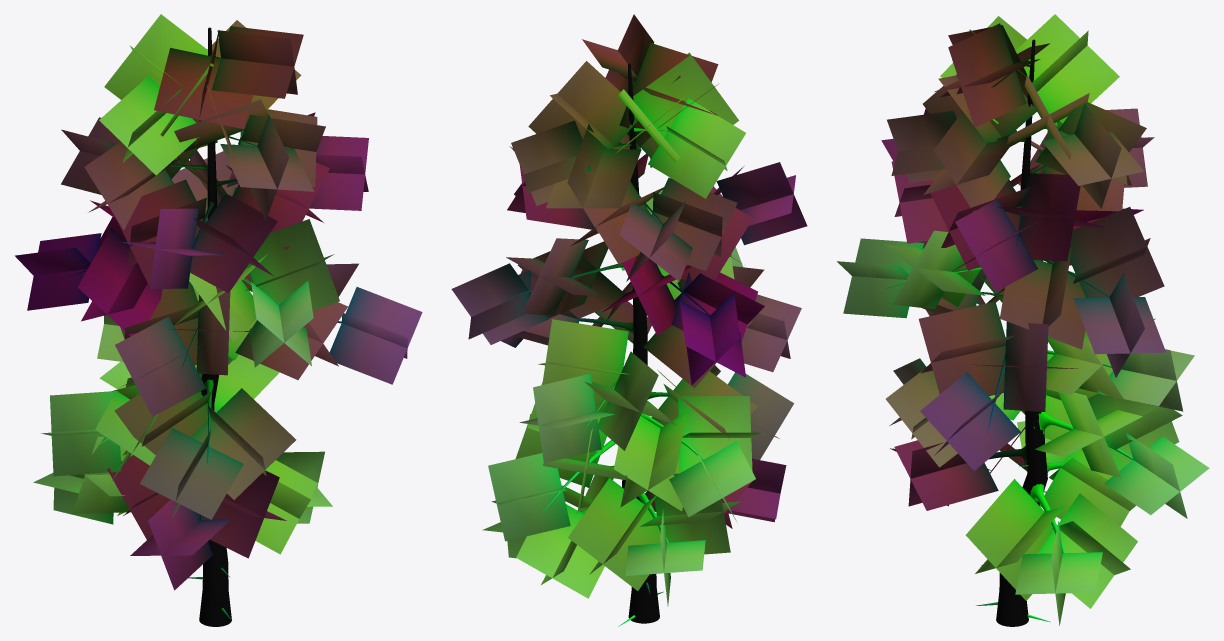
Rendered from URP_P7_Tree_4_LOD_1.fbx.
3 views of the same model, side by side, from view 1: azimuth 30°, elevation 25°; view 2: azimuth 150°, elevation 25°; view 3: azimuth 270°, elevation 25° (orthographic). The views are drawn at different scales.
Visible parts, largest first — view 1: Tree_4_LOD_1; view 2: Tree_4_LOD_1; view 3: Tree_4_LOD_1.
Boxes of the visible parts, x1,y1,x2,y2 form: Tree_4_LOD_1: [15, 14, 422, 626]; Tree_4_LOD_1: [451, 14, 807, 626]; Tree_4_LOD_1: [837, 14, 1209, 626].
Size of the model in its own units: 279 by 479 by 273.
